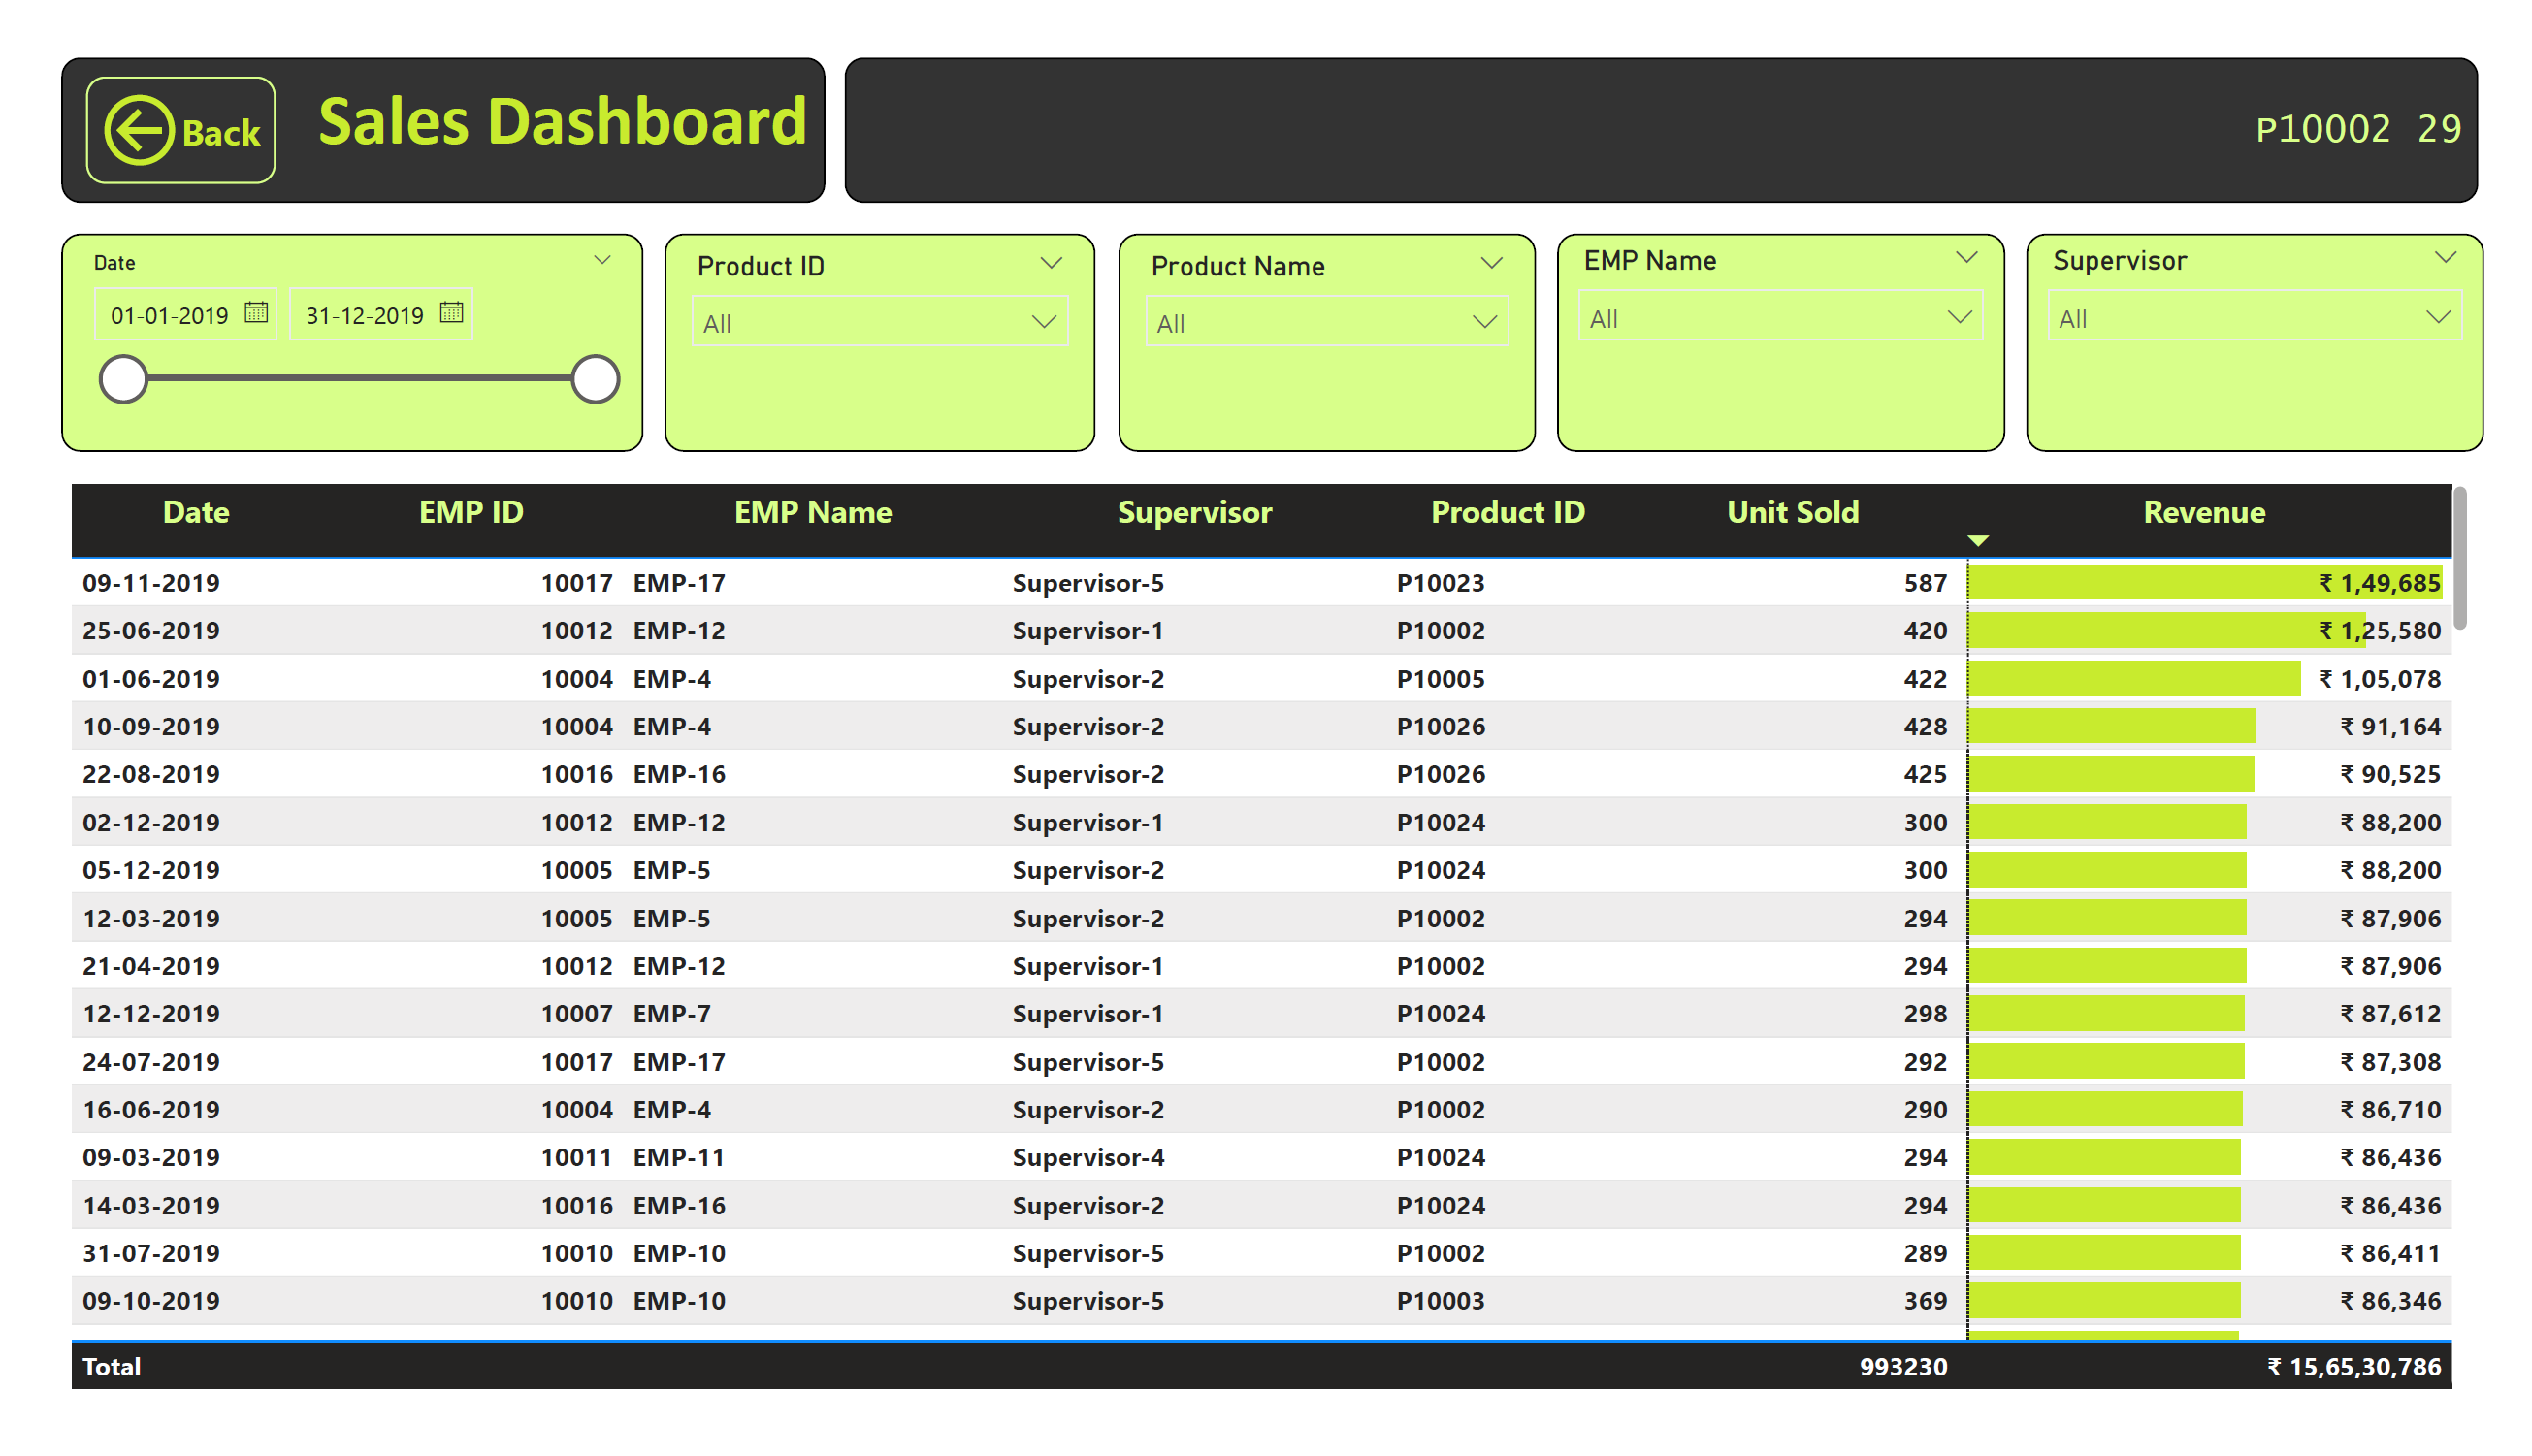

What the dashboard file says about the page in this screenshot:
{"tool":"powerbi","page":{"name":"Drill Down Dashboard","canvas":[1280,720],"ordinal":1},"visuals":[{"type":"textbox","box":[10.2,8.9,399,76.5],"z":0},{"type":"slicer","fields":{"Values":["Sales Data.Date"]},"box":[10.2,100.7,303.4,114.7],"z":1000},{"type":"slicer","fields":{"Values":["Sales Data.Product ID"]},"box":[325.4,100.7,224.4,114.7],"z":2000},{"type":"slicer","fields":{"Values":["Product Master.Product Name"]},"box":[561.6,100.7,218,114.7],"z":3000},{"type":"slicer","fields":{"Values":["Emp Master.EMP Name"]},"box":[791.4,100.7,233.3,114.7],"z":4000},{"type":"slicer","fields":{"Values":["Emp Master.Supervisor"]},"box":[1036.5,100.7,238.4,114.7],"z":5000},{"type":"ScrollingTextVisual1448795304508","fields":{"Category":["Product Master.Product ID"],"Measure Absolute":["Sum(Product Master.Price per unit)"]},"box":[419.4,8.9,852.9,76.5],"z":6000},{"type":"actionButton","box":[22.9,19.1,99.4,56.1],"z":7000},{"type":"tableEx","fields":{"Values":["Sales Data.Date","Emp Master.EMP ID","Emp Master.EMP Name","Emp Master.Supervisor","Product Master.Product ID","Sum(Sales Data.Unit Sold)","Sum(Sales Data.Revenue)"]},"box":[10.2,226.9,1262.2,481.9],"z":8000}]}

Visuals, with their boxes in screenshot pixels (x1, y1, x2, y2), scaled from the page's 1280x720 canvas onto the 2532x1456 screenshot:
textbox: box=[20, 18, 809, 173]
slicer - Sales Data.Date: box=[20, 204, 620, 436]
slicer - Sales Data.Product ID: box=[644, 204, 1087, 436]
slicer - Product Master.Product Name: box=[1111, 204, 1542, 436]
slicer - Emp Master.EMP Name: box=[1566, 204, 2027, 436]
slicer - Emp Master.Supervisor: box=[2050, 204, 2522, 436]
ScrollingTextVisual1448795304508 - Product Master.Product ID x Sum(Product Master.Price per unit): box=[829, 18, 2516, 173]
actionButton: box=[46, 39, 242, 152]
tableEx - Sales Data.Date x Emp Master.EMP ID: box=[20, 459, 2517, 1434]
